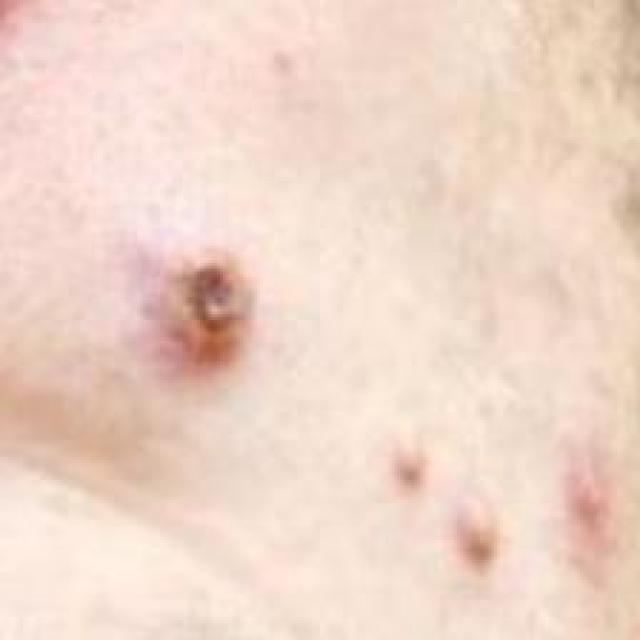monkeypox: (78, 94, 606, 606)
